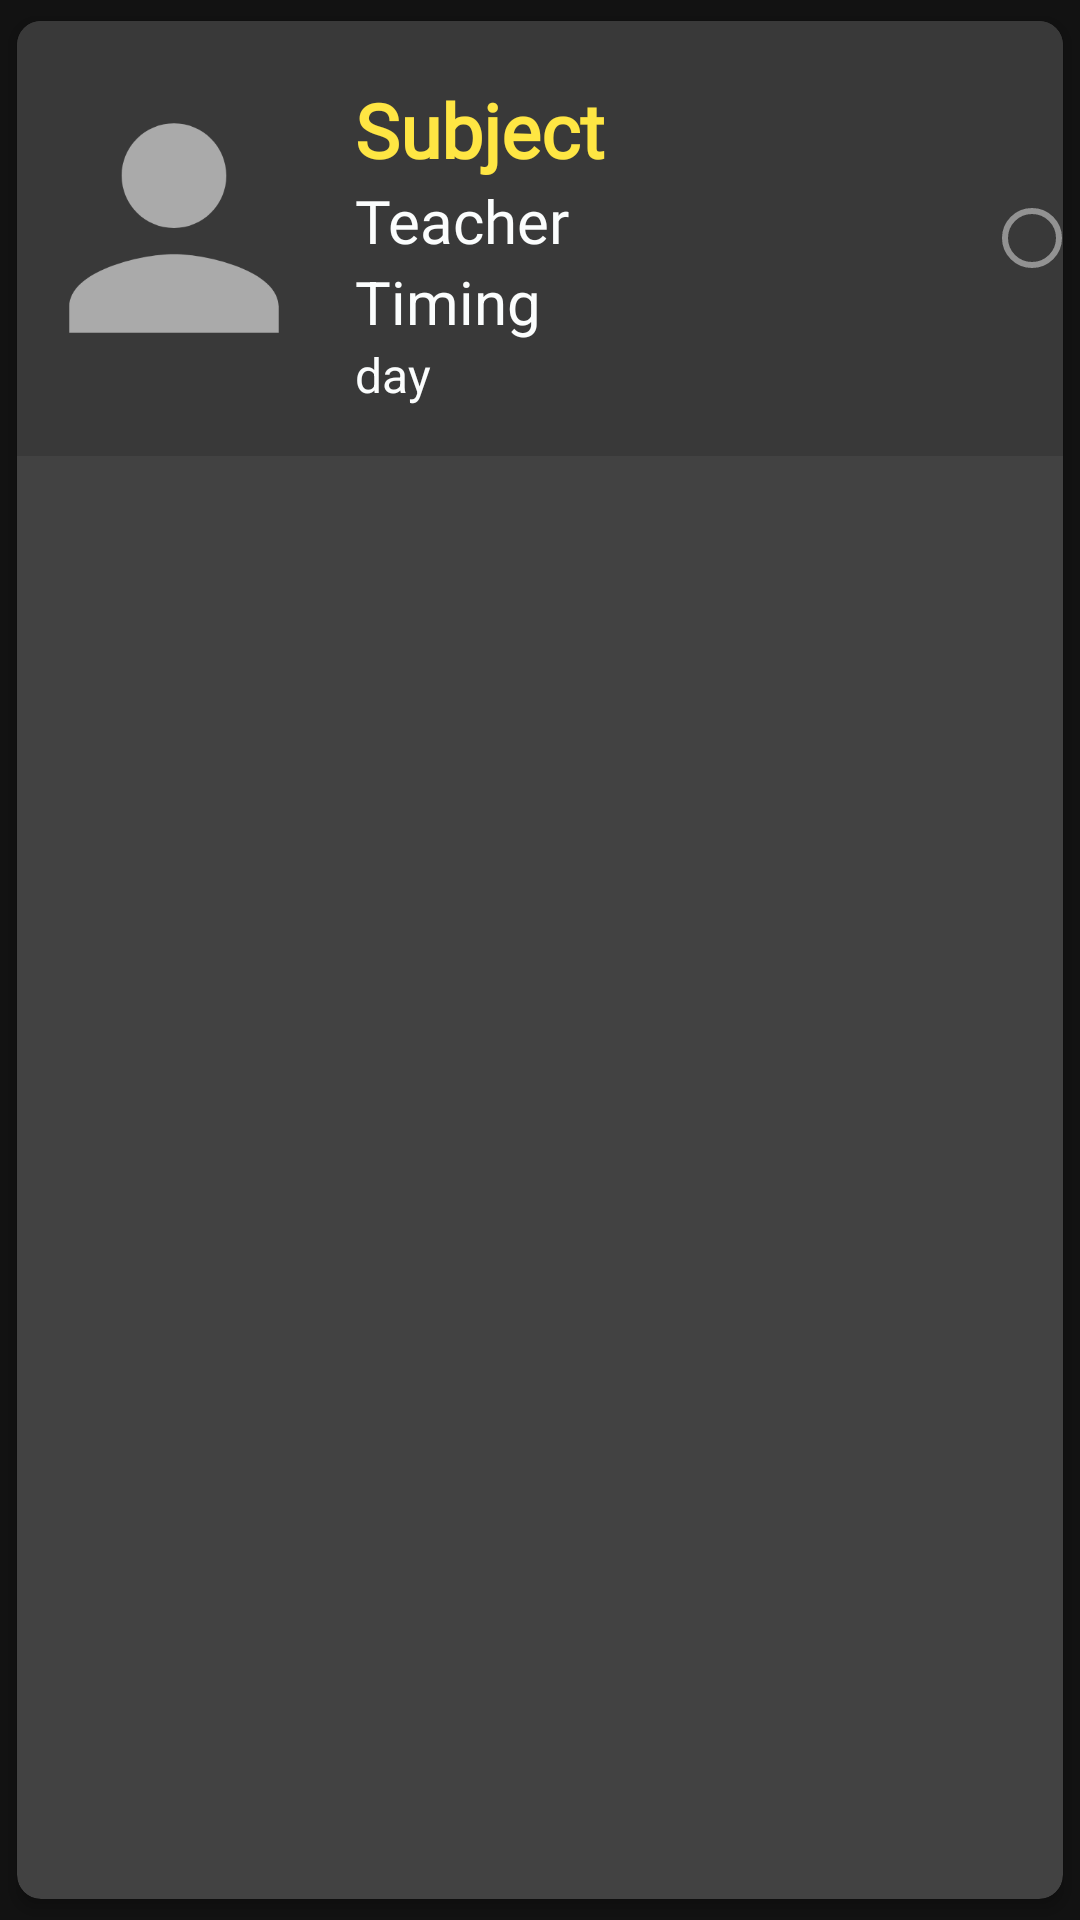

Icons on this 1080 × 1920 Android screen, each with the point to tap as point (x, y):
person: point (174, 228)
